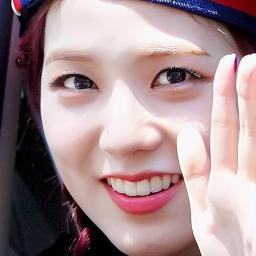face: (47, 8, 185, 254)
